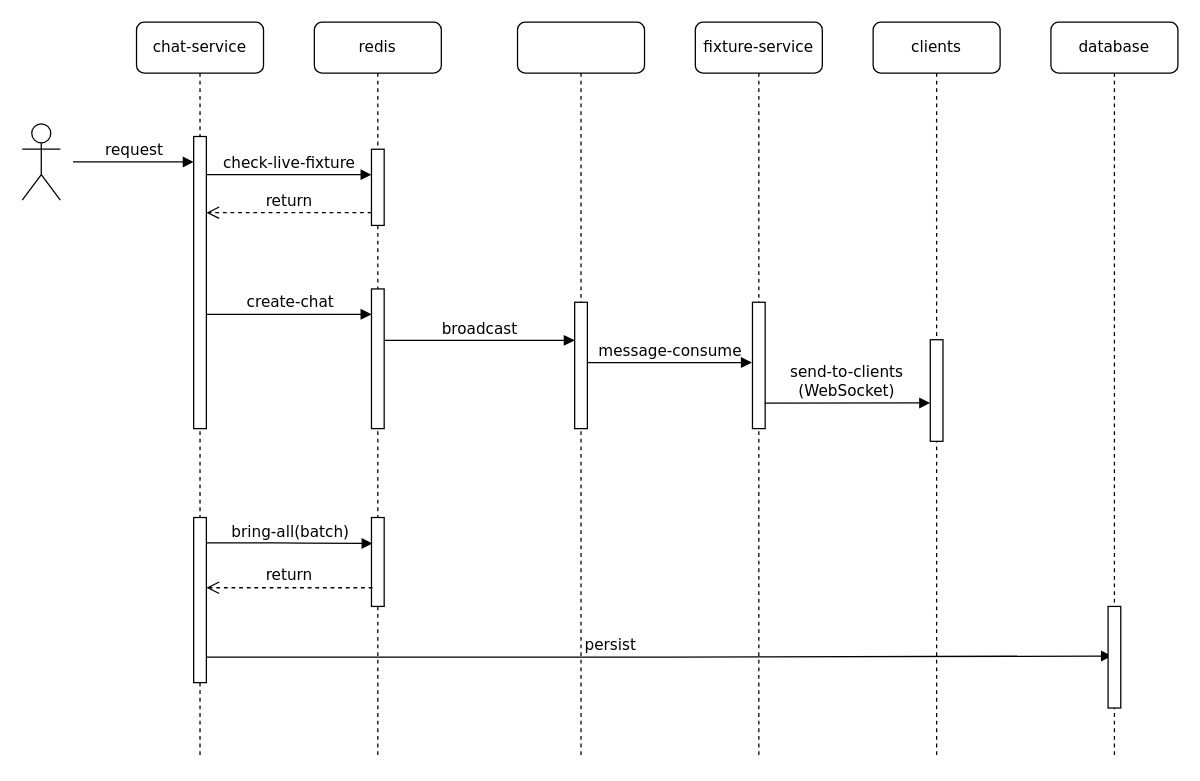
The diagram is 1200 pixels wide and 781 high, and some of its shapes have lost their labels. The centre of each missing label's shape, as x and y in pixels:
"Actor" belongs at (x=40, y=161).
"RabbitMQ" belongs at (x=580, y=390).
